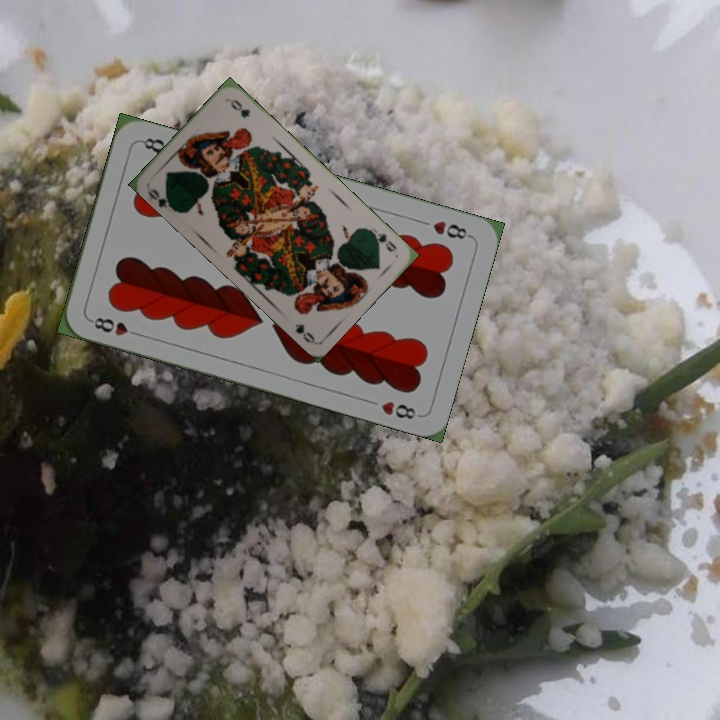GO: (144, 184, 179, 215), (365, 225, 400, 255)
H8: (86, 313, 144, 339), (428, 216, 474, 242)
